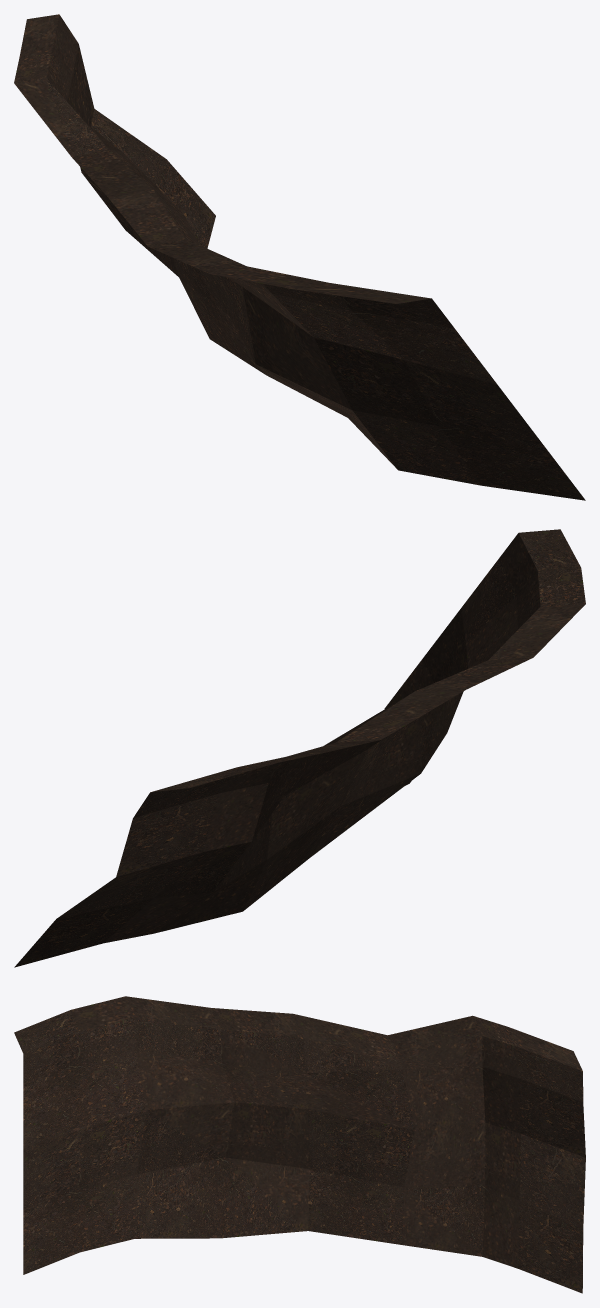
The model's file is dirt_slope2.glb.
The picture shows the model from 3 angles, top to bottom: view 1: azimuth 30°, elevation 25°; view 2: azimuth 150°, elevation 25°; view 3: azimuth 270°, elevation 25°; orthographic projection. The views are drawn at different scales.
Visible parts, largest first — view 1: Plane; view 2: Plane; view 3: Plane.
Part boxes in pixels (x1,y1,x2,y2): Plane: (14,14,585,500); Plane: (14,529,585,967); Plane: (14,996,585,1293).
Bounding box in the file's own units: 3.16 × 2.39 × 6.69.
Materials: 1 (1 with a texture image).
